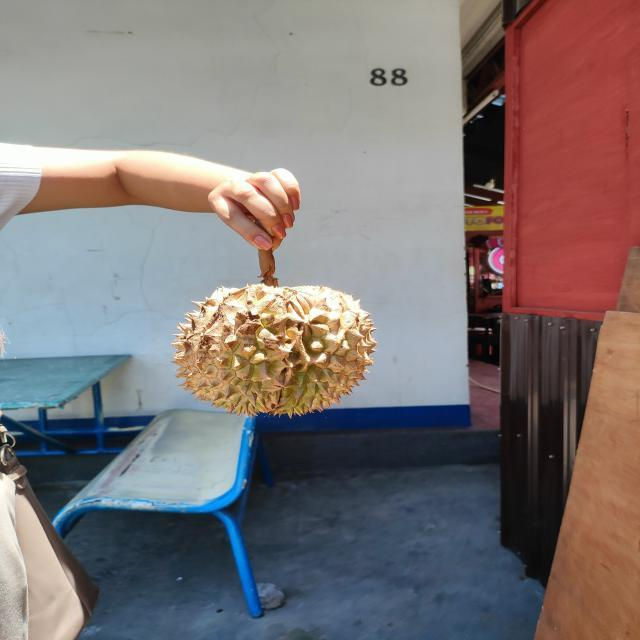mature: (170, 282, 378, 419)
